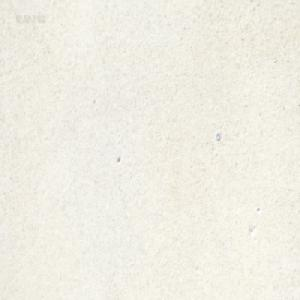Washer: (215, 131, 220, 141)
